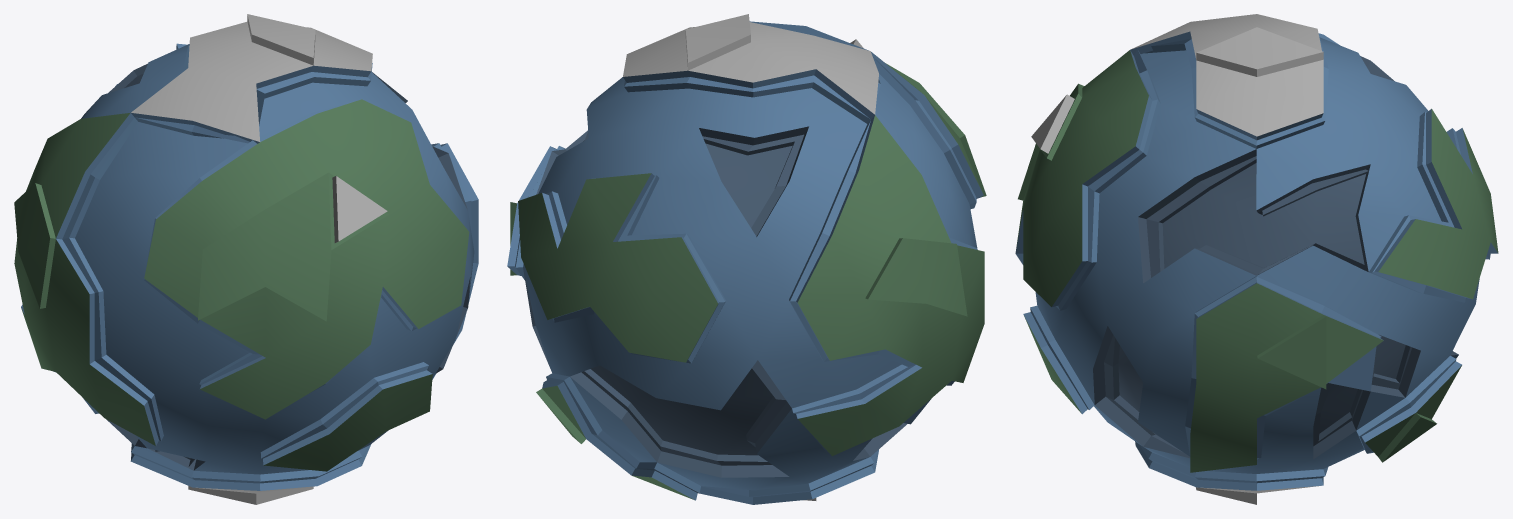
File: Ball - Globe.fbx
The picture shows the model from 3 angles, left to right: view 1: azimuth 30°, elevation 25°; view 2: azimuth 150°, elevation 25°; view 3: azimuth 270°, elevation 25°; orthographic projection. The views are drawn at different scales.
Visible parts, largest first — view 1: pPlatonic1; view 2: pPlatonic1; view 3: pPlatonic1.
Boxes of the visible parts, bbox=[...] form: pPlatonic1: bbox=[14, 14, 478, 504]; pPlatonic1: bbox=[507, 14, 986, 504]; pPlatonic1: bbox=[1015, 14, 1498, 504].
Bounding box in the file's own units: 10.27 × 10.44 × 10.
